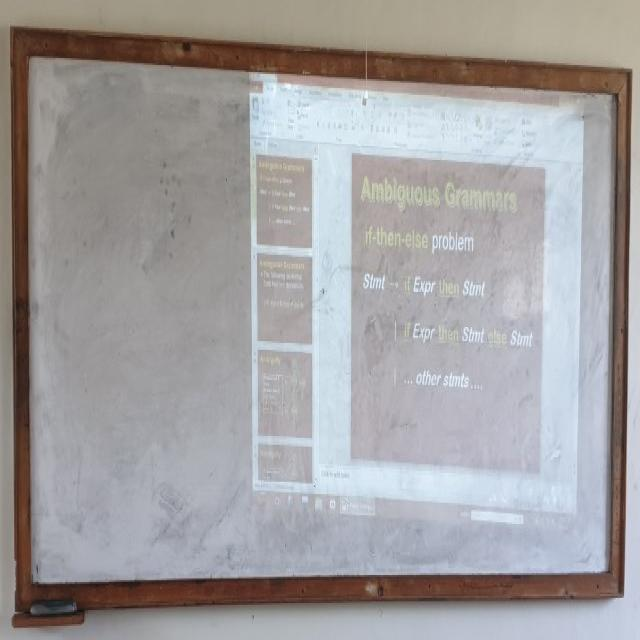Slide: (246, 57, 584, 531)
White-board: (22, 41, 625, 598)
